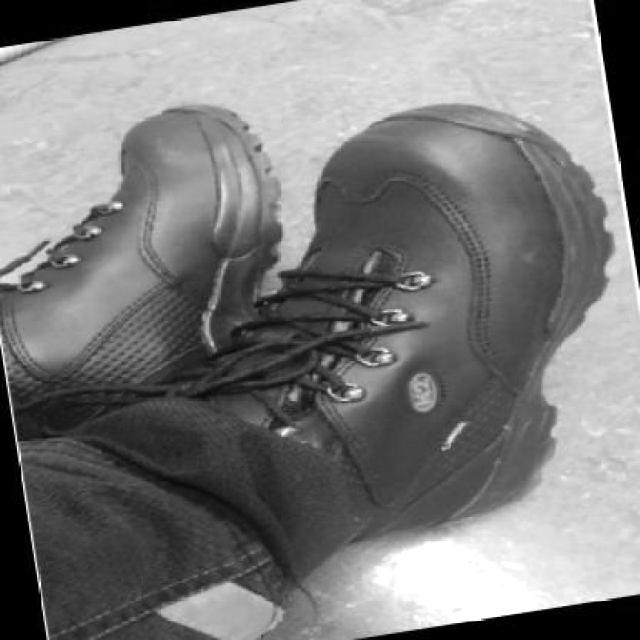Boots: (316, 96, 610, 528), (22, 95, 268, 393)
